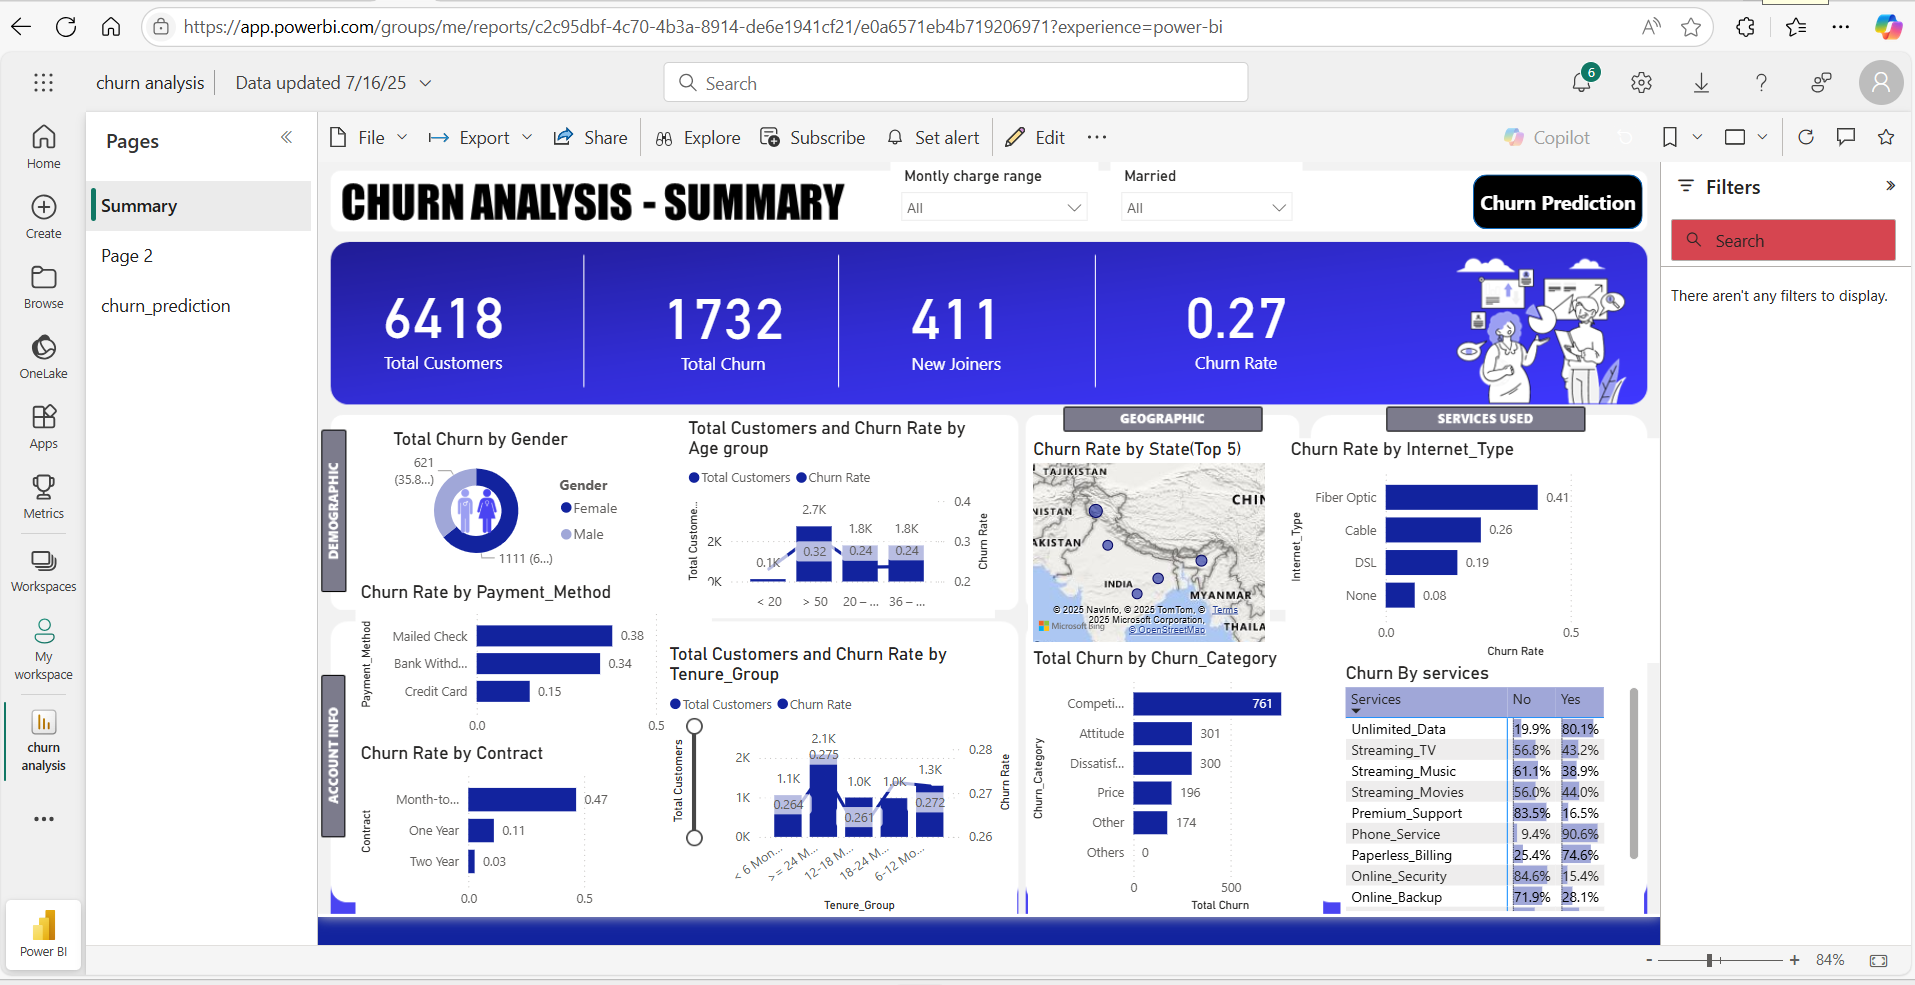

The page's visual inventory and layout, read from the dashboard file:
{"tool":"powerbi","page":{"name":"Summary","canvas":[1280,720],"ordinal":0},"visuals":[{"type":"card","fields":{"Values":["tbl_measures.Total Customers"]},"box":[16.5,100.2,205.8,105.7],"z":0},{"type":"card","fields":{"Values":["tbl_measures.Total Churn"]},"box":[301.9,101.5,170.2,105.7],"z":1000},{"type":"card","fields":{"Values":["tbl_measures.New Joiners"]},"box":[529.7,101.5,159.2,105.7],"z":2000},{"type":"card","fields":{"Values":["tbl_measures.Churn Rate"]},"box":[793.1,100.2,166,105.7],"z":3000},{"type":"donutChart","fields":{"Category":["prod_Churn.Gender"],"Y":["tbl_measures.Total Churn"]},"box":[67.2,253.9,234.6,138.6],"z":4000},{"type":"lineStackedColumnComboChart","fields":{"Category":["mapping_AgeGrp.Age group"],"Y":["tbl_measures.Total Customers"],"Y2":["tbl_measures.Churn Rate"]},"box":[348.5,242.9,297.8,192.1],"z":5000},{"type":"clusteredBarChart","fields":{"Category":["prod_Churn.Payment_Method"],"Y":["tbl_measures.Churn Rate"]},"box":[35.7,399.3,340.3,156.4],"z":6000},{"type":"clusteredBarChart","fields":{"Category":["prod_Churn.Contract"],"Y":["tbl_measures.Churn Rate"]},"box":[35.7,553,308.7,167.4],"z":7000},{"type":"lineStackedColumnComboChart","fields":{"Category":["mapping_TenureGrp.Tenure_Group"],"Y":["tbl_measures.Total Customers"],"Y2":["tbl_measures.Churn Rate"]},"box":[330.7,459.7,336.2,260.7],"z":8000},{"type":"clusteredBarChart","fields":{"Category":["prod_Churn.State"],"Y":["tbl_measures.Churn Rate"]},"box":[677.9,263.5,230.5,199],"z":9000},{"type":"clusteredBarChart","fields":{"Category":["prod_Churn.Churn_Category"],"Y":["tbl_measures.Total Churn"]},"box":[677.9,462.4,281.3,258],"z":10000},{"type":"clusteredBarChart","fields":{"Category":["prod_Churn.Internet_Type"],"Y":["tbl_measures.Churn Rate"]},"box":[923.5,263.5,356.8,214.1],"z":11000},{"type":"slicer","fields":{"Values":["prod_Churn.Montly  charge status"]},"box":[546.6,0,198.1,64.8],"z":12000},{"type":"slicer","fields":{"Values":["prod_Churn.Married"]},"box":[755.7,0,183.4,64.8],"z":13000},{"type":"pivotTable","title":"Churn By services","fields":{"Rows":["prod_services.Services"],"Columns":["prod_services.Status"],"Values":["Sum(prod_services.churn_status)"]},"box":[975.6,477.5,289.5,242.9],"z":14000},{"type":"image","box":[118,300.5,67.2,63.1],"z":15000},{"type":"shape","box":[1101.9,12.3,161.9,52.1],"z":15001}]}

Visuals, with their boxes on the page's 1280x720 design canvas (x1, y1, x2, y2). These are canvas units, not pixel positions in the 1915x985 screenshot, which may show the page scaled, cropped or inside an application window:
card - tbl_measures.Total Customers: bbox=[16, 100, 222, 206]
card - tbl_measures.Total Churn: bbox=[302, 102, 472, 207]
card - tbl_measures.New Joiners: bbox=[530, 102, 689, 207]
card - tbl_measures.Churn Rate: bbox=[793, 100, 959, 206]
donutChart - prod_Churn.Gender x tbl_measures.Total Churn: bbox=[67, 254, 302, 392]
lineStackedColumnComboChart - mapping_AgeGrp.Age group x tbl_measures.Total Customers: bbox=[348, 243, 646, 435]
clusteredBarChart - prod_Churn.Payment_Method x tbl_measures.Churn Rate: bbox=[36, 399, 376, 556]
clusteredBarChart - prod_Churn.Contract x tbl_measures.Churn Rate: bbox=[36, 553, 344, 720]
lineStackedColumnComboChart - mapping_TenureGrp.Tenure_Group x tbl_measures.Total Customers: bbox=[331, 460, 667, 720]
clusteredBarChart - prod_Churn.State x tbl_measures.Churn Rate: bbox=[678, 264, 908, 462]
clusteredBarChart - prod_Churn.Churn_Category x tbl_measures.Total Churn: bbox=[678, 462, 959, 720]
clusteredBarChart - prod_Churn.Internet_Type x tbl_measures.Churn Rate: bbox=[924, 264, 1280, 478]
slicer - prod_Churn.Montly  charge status: bbox=[547, 0, 745, 65]
slicer - prod_Churn.Married: bbox=[756, 0, 939, 65]
"Churn By services" pivotTable: bbox=[976, 478, 1265, 720]
image: bbox=[118, 300, 185, 364]
shape: bbox=[1102, 12, 1264, 64]
